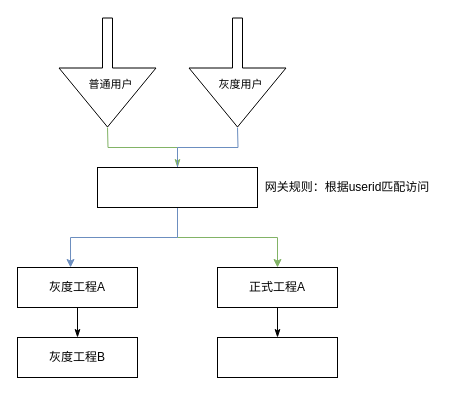
The diagram is 475 pixels wide and 395 high, and some of its shapes have lost their labels. The shapes that lost their labels are listed below. From the top down, each one's centre as x and y in pixels, then its label:
At point 177,187: "istio网关".
At point 277,357: "正式工程B".
